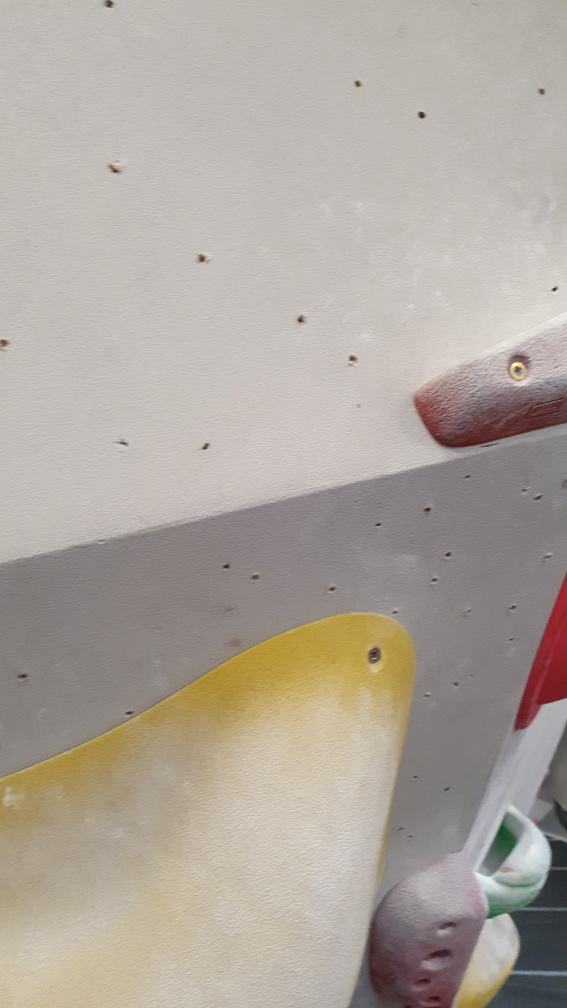Jug: (470, 805, 555, 919)
Pinch: (413, 312, 567, 448)
